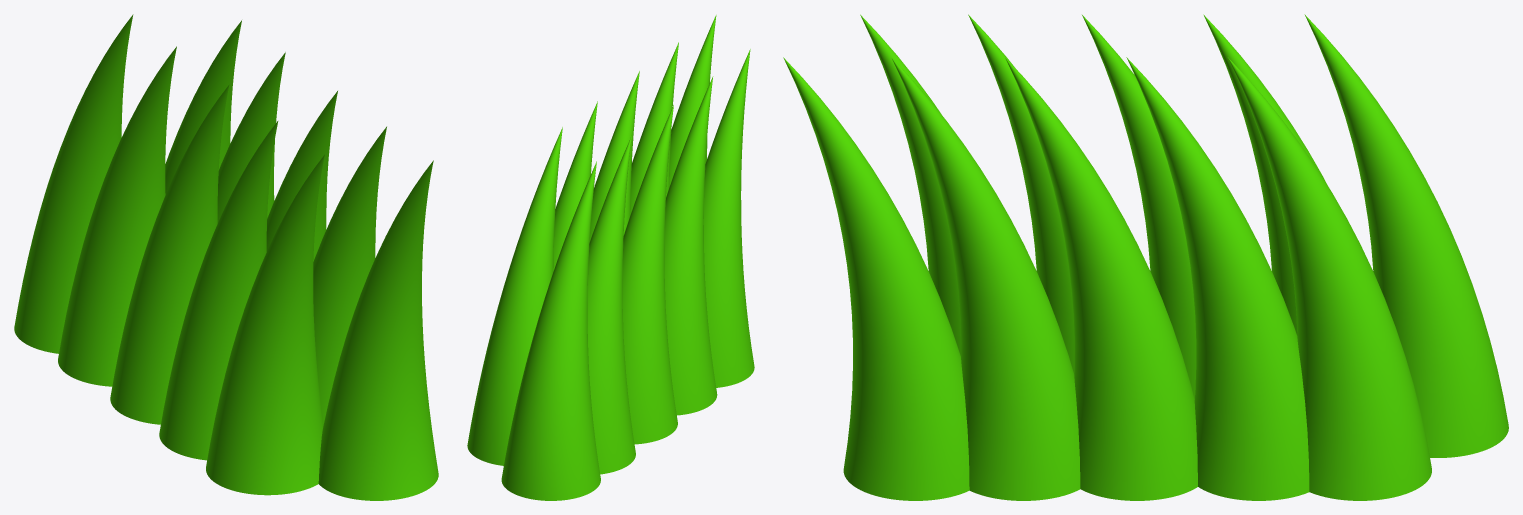
File: grass.fbx
3 views of the same model, side by side, from view 1: azimuth 30°, elevation 25°; view 2: azimuth 150°, elevation 25°; view 3: azimuth 270°, elevation 25° (orthographic). The views are drawn at different scales.
Parts seen in each view (by area): view 1: 레이어 04 (×10); view 2: 레이어 04 (×10); view 3: 레이어 04 (×10).
Boxes of the visible parts, box(x1,y1,x2,y2) form: 레이어 04 (×10): box(14, 14, 438, 500); 레이어 04 (×10): box(467, 15, 754, 500); 레이어 04 (×10): box(783, 14, 1508, 500).
Bounding box in the file's own units: 16.06 × 29.88 × 47.52.
